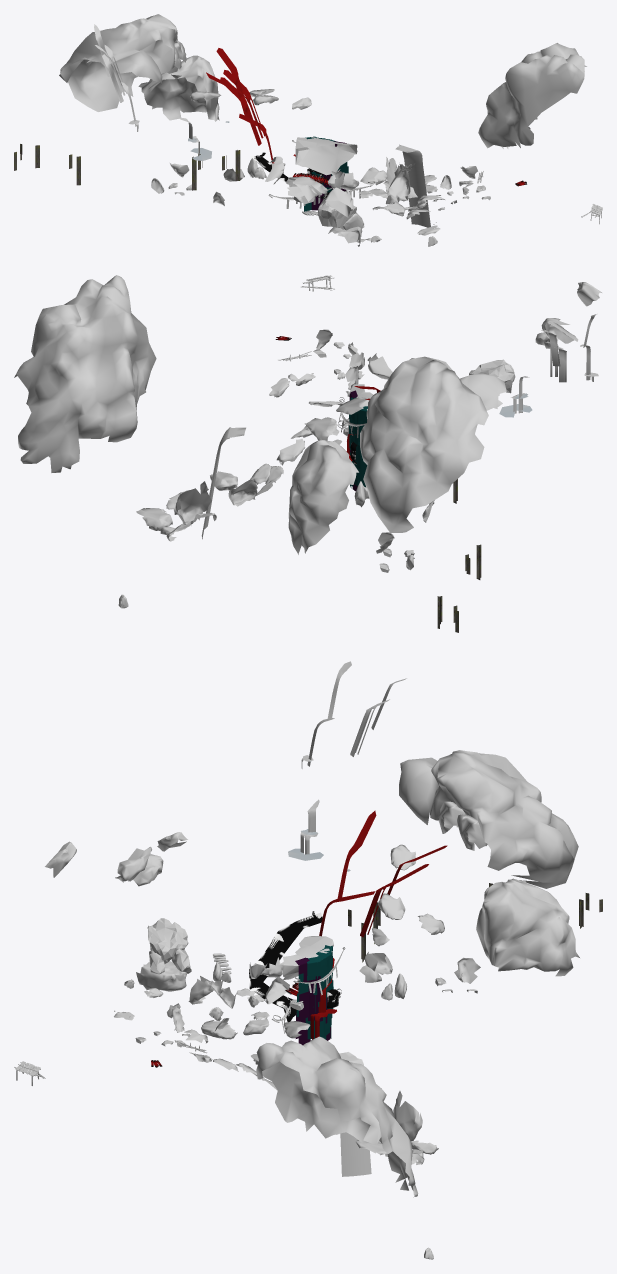
3 views of the same model, one above another, from view 1: azimuth 30°, elevation 25°; view 2: azimuth 150°, elevation 25°; view 3: azimuth 270°, elevation 25° (orthographic). The views are drawn at different scales.
Visible parts, largest first — view 1: m01a00takiiwa_1_Group_0_Sub_6__B_iwa01_mos1, m01a00takiiwa_1_Group_0_Sub_2__B_iwa01_mos_1, m01a00takiiwa2_1_Group_0_Sub_1__B_iwa01_mos_1, m01a00nagare_1_Group_0_Sub_2__A_nagare01_, m01a00kabe17_1_Group_0_Sub_1__B_iwa01_mos_, m01a00mizu02_1_Group_0_Sub_1__A_nagare01_water_, m01a00takiiwa_1_Group_0_Sub_4__B_iwa19_mos_01, m01a00etc_1_Group_0_Sub_1__N_tuta06, m01a00takiiwa_1_Group_0_Sub_1__B_iwa19_wet, m01a00takiiwa_1_Group_0_Sub_5__B_iwa01_mos_2, m01a00kabe17_1_Group_0_Sub_2__N_tuta02_01, m01a00mizu04_1_Group_0_Sub_1__A_suimen02_ (+1 smaller); view 2: m01a00takiiwa_1_Group_0_Sub_6__B_iwa01_mos1, m01a00takiiwa_1_Group_0_Sub_1__B_iwa19_wet, m01a00takiiwa2_1_Group_0_Sub_1__B_iwa01_mos_1, m01a00takiiwa_1_Group_0_Sub_2__B_iwa01_mos_1, m01a00nagare_1_Group_0_Sub_2__A_nagare01_, m01a00takiiwa_1_Group_0_Sub_5__B_iwa01_mos_2, m01a00kabe17_1_Group_0_Sub_2__N_tuta02_01, m01a00takiiwa_1_Group_0_Sub_4__B_iwa19_mos_01, m01a00etc_1_Group_0_Sub_1__N_tuta06; view 3: m01a00takiiwa_1_Group_0_Sub_6__B_iwa01_mos1, m01a00takiiwa_1_Group_0_Sub_2__B_iwa01_mos_1, m01a00takiiwa2_1_Group_0_Sub_1__B_iwa01_mos_1, m01a00nagare_1_Group_0_Sub_2__A_nagare01_, m01a00takiiwa_1_Group_0_Sub_4__B_iwa19_mos_01, m01a00kabe17_1_Group_0_Sub_2__N_tuta02_01, m01a00mizu02_1_Group_0_Sub_1__A_nagare01_water_, m01a00mizu04_1_Group_0_Sub_1__A_suimen02_, m01a00takiiwa_1_Group_0_Sub_1__B_iwa19_wet, m01a00takiiwa_1_Group_0_Sub_5__B_iwa01_mos_2, m01a00kabe17_1_Group_0_Sub_1__B_iwa01_mos_, m01a00isi_1_Group_0_Sub_1__B_iwa19_mos_02.
Boxes of the visible parts, x1,y1,x2,y2 form: m01a00takiiwa_1_Group_0_Sub_6__B_iwa01_mos1: (59,14,586,148); m01a00takiiwa_1_Group_0_Sub_2__B_iwa01_mos_1: (265,156,473,246); m01a00takiiwa2_1_Group_0_Sub_1__B_iwa01_mos_1: (151,163,490,209); m01a00nagare_1_Group_0_Sub_2__A_nagare01_: (94,24,430,227); m01a00kabe17_1_Group_0_Sub_1__B_iwa01_mos_: (295,137,357,175); m01a00mizu02_1_Group_0_Sub_1__A_nagare01_water_: (206,48,330,183); m01a00takiiwa_1_Group_0_Sub_4__B_iwa19_mos_01: (318,199,363,246); m01a00etc_1_Group_0_Sub_1__N_tuta06: (14,144,240,190); m01a00takiiwa_1_Group_0_Sub_1__B_iwa19_wet: (383,157,441,213); m01a00takiiwa_1_Group_0_Sub_5__B_iwa01_mos_2: (190,89,311,109); m01a00kabe17_1_Group_0_Sub_2__N_tuta02_01: (304,136,348,211); m01a00mizu04_1_Group_0_Sub_1__A_suimen02_: (251,152,357,198); m01a00takiiwa_1_Group_0_Sub_6__B_iwa01_mos1: (14,275,506,554); m01a00takiiwa_1_Group_0_Sub_1__B_iwa19_wet: (136,439,341,541); m01a00takiiwa2_1_Group_0_Sub_1__B_iwa01_mos_1: (313,329,434,572); m01a00takiiwa_1_Group_0_Sub_2__B_iwa01_mos_1: (118,282,601,608); m01a00nagare_1_Group_0_Sub_2__A_nagare01_: (201,314,598,539); m01a00takiiwa_1_Group_0_Sub_5__B_iwa01_mos_2: (306,397,369,440); m01a00kabe17_1_Group_0_Sub_2__N_tuta02_01: (349,390,367,491); m01a00takiiwa_1_Group_0_Sub_4__B_iwa19_mos_01: (469,359,515,410); m01a00etc_1_Group_0_Sub_1__N_tuta06: (437,479,481,632); m01a00takiiwa_1_Group_0_Sub_6__B_iwa01_mos1: (256,750,579,1197); m01a00takiiwa_1_Group_0_Sub_2__B_iwa01_mos_1: (45,832,433,1259); m01a00takiiwa2_1_Group_0_Sub_1__B_iwa01_mos_1: (135,952,480,1046); m01a00nagare_1_Group_0_Sub_2__A_nagare01_: (300,661,406,1176); m01a00takiiwa_1_Group_0_Sub_4__B_iwa19_mos_01: (136,918,191,991); m01a00kabe17_1_Group_0_Sub_2__N_tuta02_01: (295,945,333,1045); m01a00mizu02_1_Group_0_Sub_1__A_nagare01_water_: (310,810,447,1039); m01a00mizu04_1_Group_0_Sub_1__A_suimen02_: (249,911,340,1022); m01a00takiiwa_1_Group_0_Sub_1__B_iwa19_wet: (251,1054,438,1164); m01a00takiiwa_1_Group_0_Sub_5__B_iwa01_mos_2: (372,844,444,946); m01a00kabe17_1_Group_0_Sub_1__B_iwa01_mos_: (283,936,333,979); m01a00isi_1_Group_0_Sub_1__B_iwa19_mos_02: (210,962,406,1021).
Bounding box in the file's own units: 16026 × 9978 × 13978.
